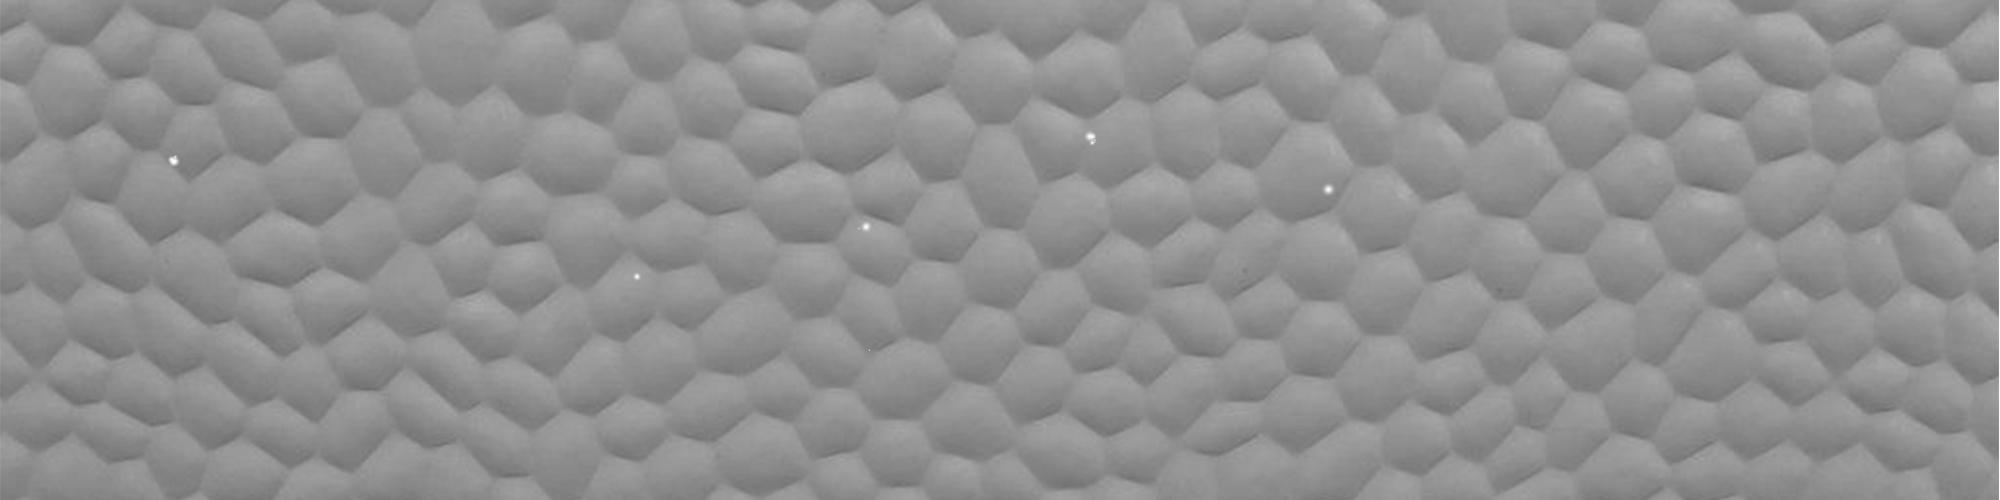Particles: (1079, 130, 1102, 149), (165, 152, 184, 171), (855, 218, 875, 236), (1319, 181, 1338, 198), (631, 272, 645, 283)
